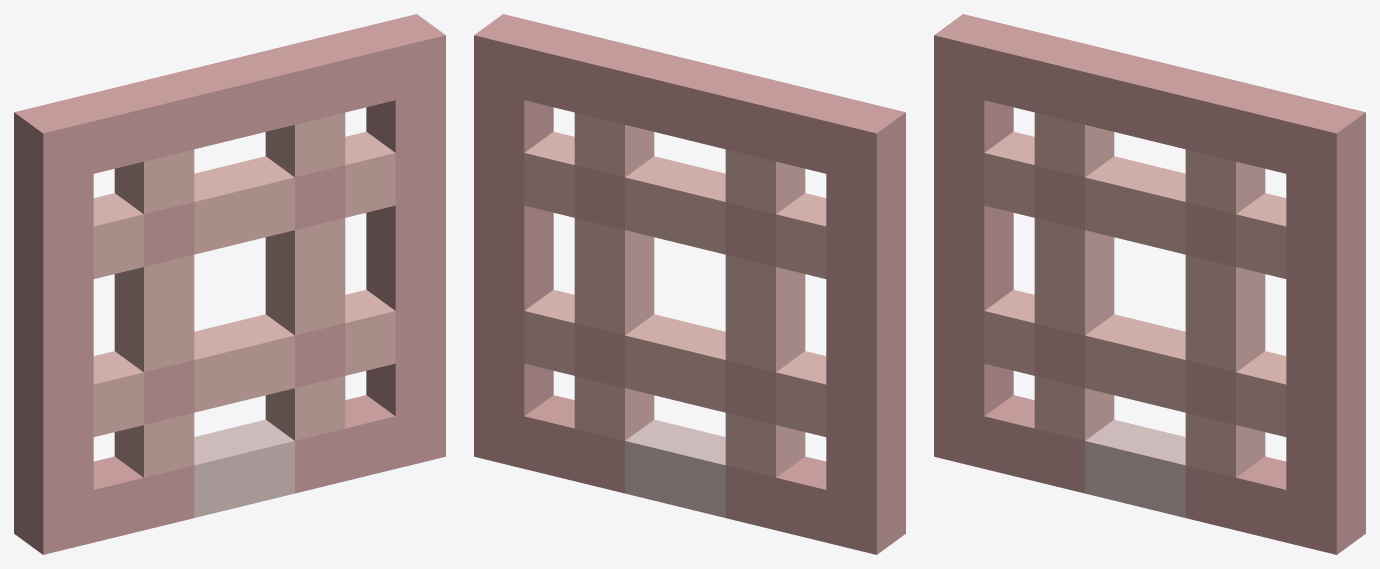
File: Cherry Trapdoor.glb
3 renders of one model, left to right at view 1: azimuth 30°, elevation 25°; view 2: azimuth 150°, elevation 25°; view 3: azimuth 330°, elevation 25°, orthographic.
Visible parts, largest first — view 1: generated(Clone); view 2: generated(Clone); view 3: generated(Clone).
Part boxes in pixels (left/top/right/bottom): generated(Clone): left=14, top=14, right=445, bottom=554; generated(Clone): left=474, top=14, right=905, bottom=554; generated(Clone): left=934, top=14, right=1365, bottom=554.
Size of the model in its own units: 8 by 8 by 1.
Materials: 1 (1 with a texture image).
